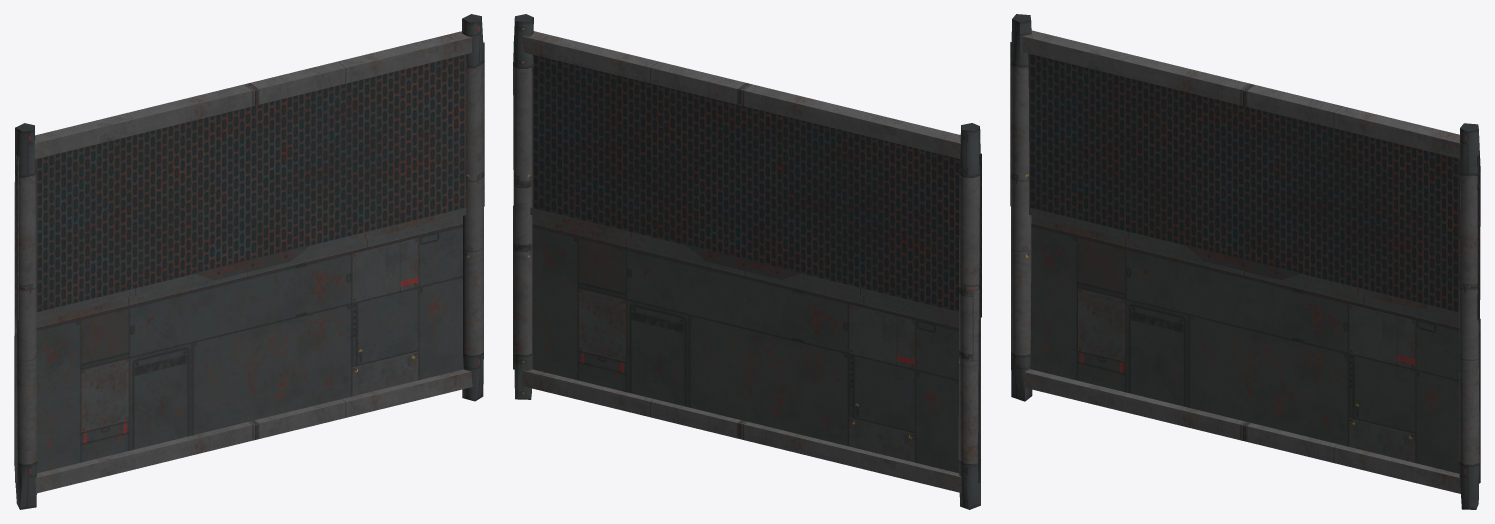
File: ARC0910139.fbx
The picture shows the model from 3 angles, left to right: view 1: azimuth 30°, elevation 25°; view 2: azimuth 150°, elevation 25°; view 3: azimuth 330°, elevation 25°; orthographic projection.
Parts seen in each view (by area): view 1: smARC0910139; view 2: smARC0910139; view 3: smARC0910139.
Boxes of the visible parts, x1,y1,x2,y2 form: smARC0910139: [14, 14, 484, 509]; smARC0910139: [513, 14, 981, 509]; smARC0910139: [1010, 14, 1480, 509].
Size of the model in its own units: 397 by 308 by 16.87.
1 material, 1 textured.
